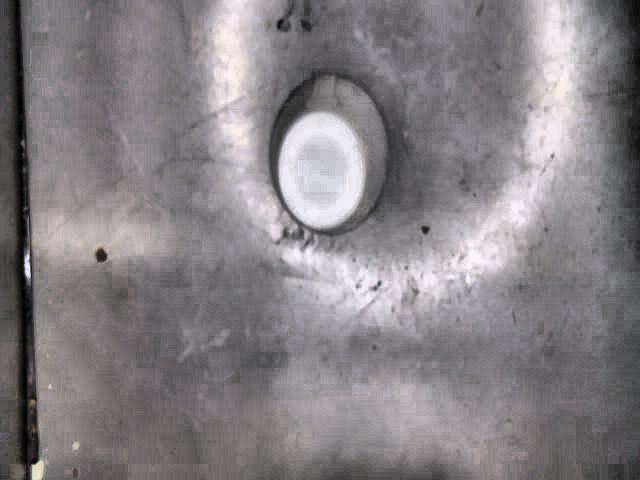Plastic: (265, 74, 390, 239)
